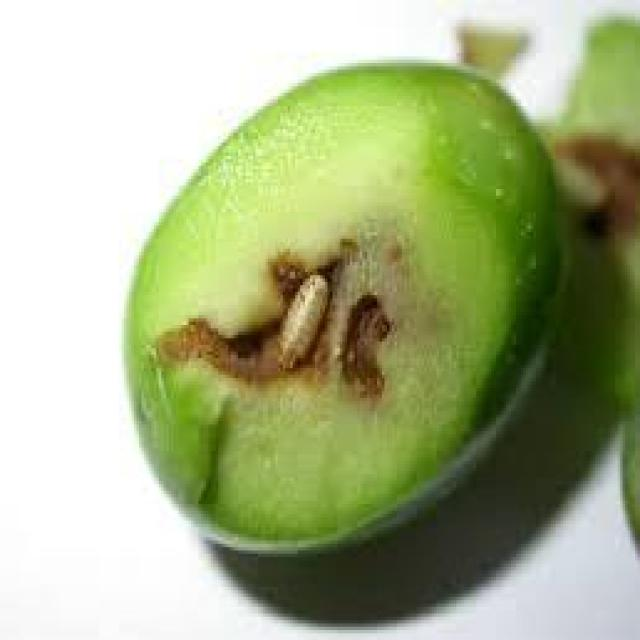Olive Fruit Fly: (127, 63, 556, 531)
